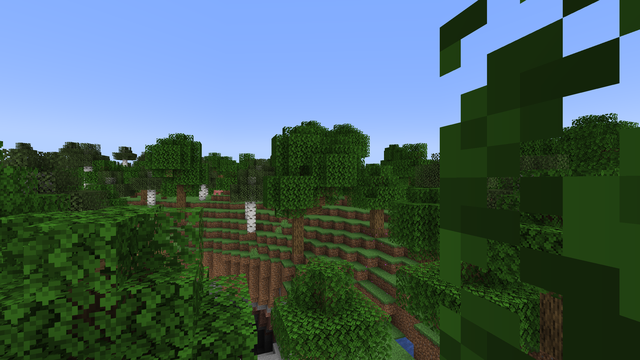cochons: (214, 189, 219, 194)
